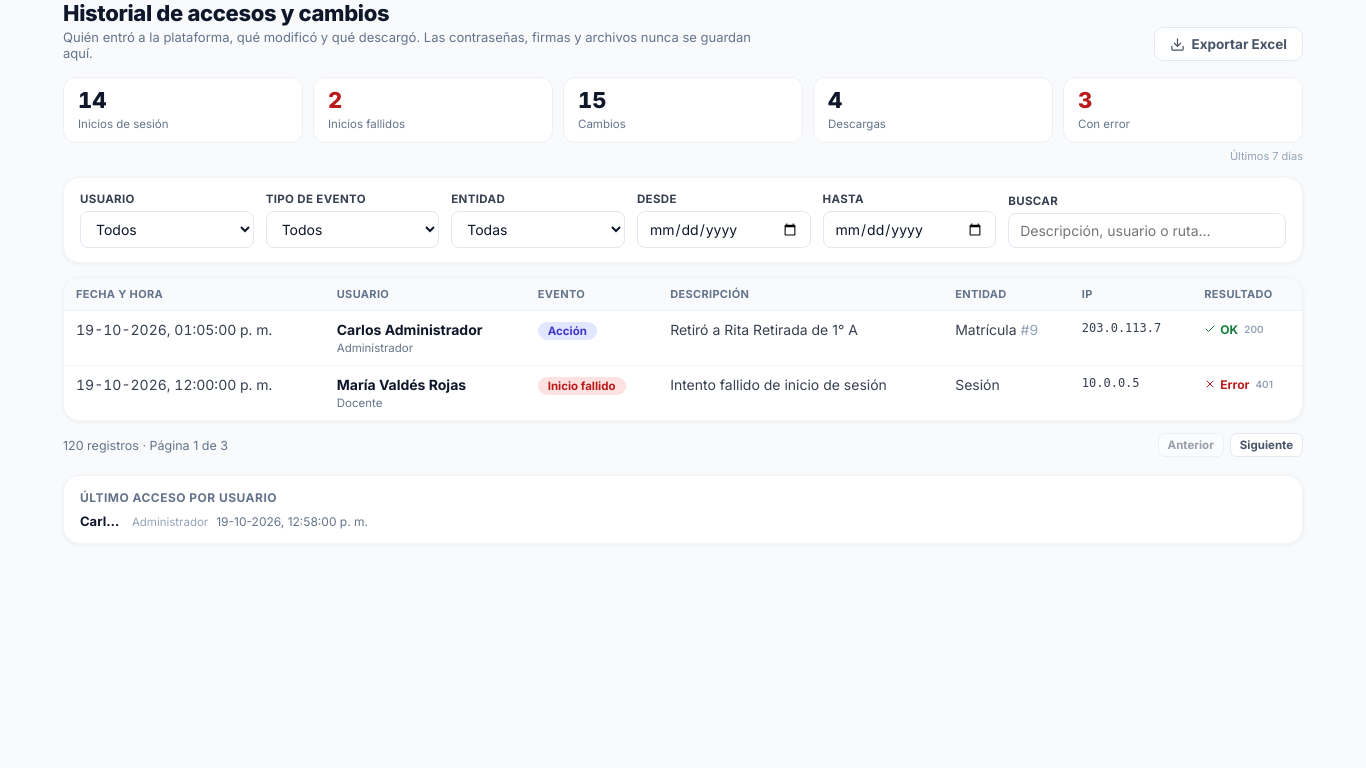
al hacer clic en una fila se abre el detalle con los datos clave/valor
Step 1. Click the text "Retiró a Rita Retirada de 1° A" → (801, 338), box [658,311,943,366]
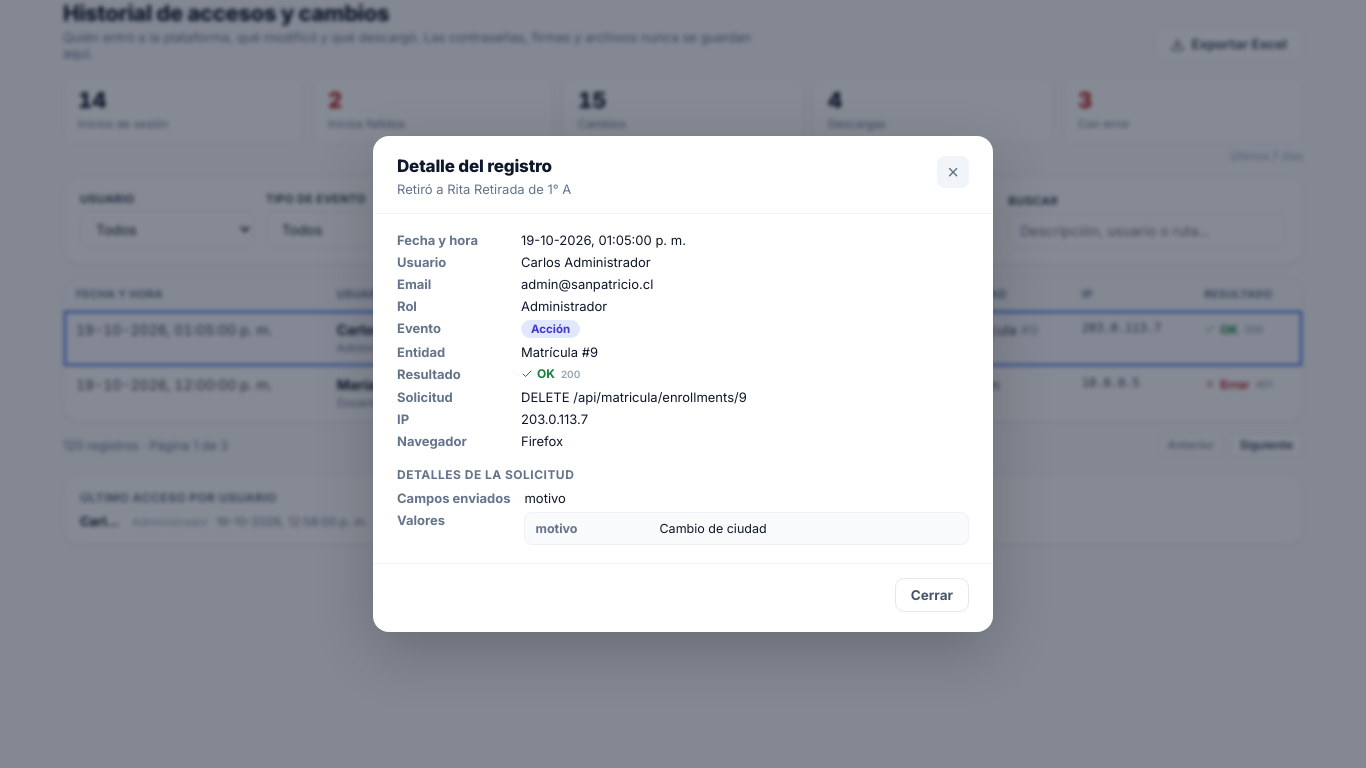
Now the dialog "Detalle del registro" shows "DELETE /api/matricula/enrollments/9", box [521,389,747,405]
Now the dialog "Detalle del registro" shows "Matrícula #9", box [521,344,598,360]
Now the text "Campos enviados" is shown, box [397,490,510,506]
Step 2. Click the button "Cerrar" → (932, 595), box [895,578,969,612]
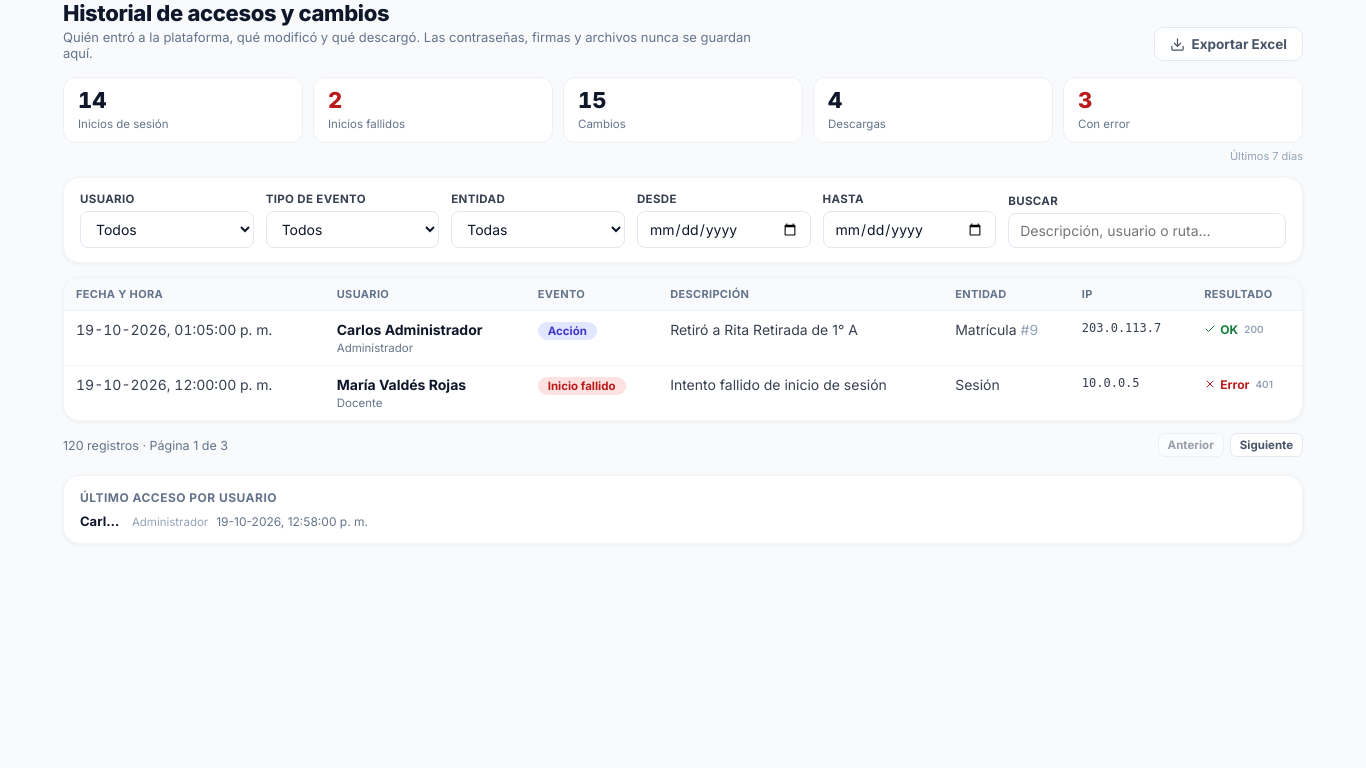
Now the dialog is gone
